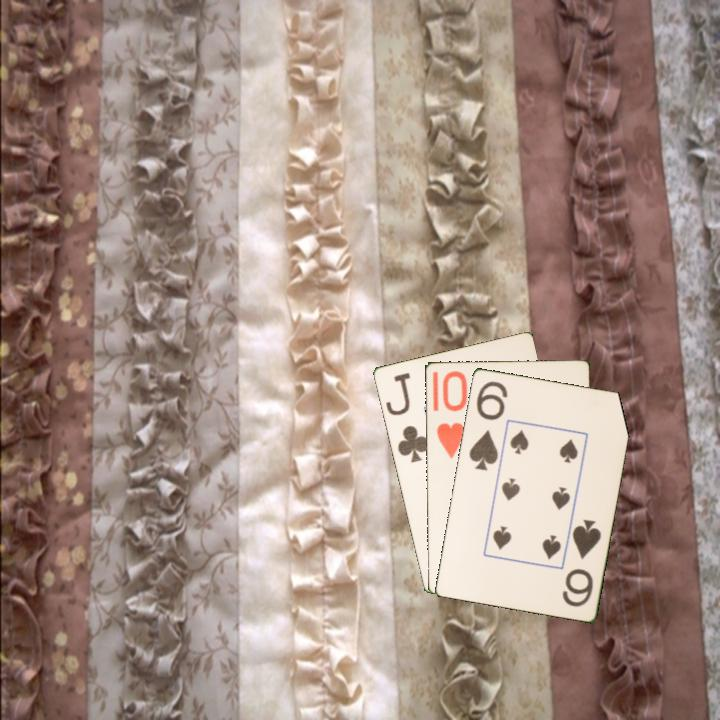10h: (433, 367, 467, 461)
6s: (558, 515, 604, 610), (465, 377, 510, 473)
Jc: (382, 369, 432, 465)
